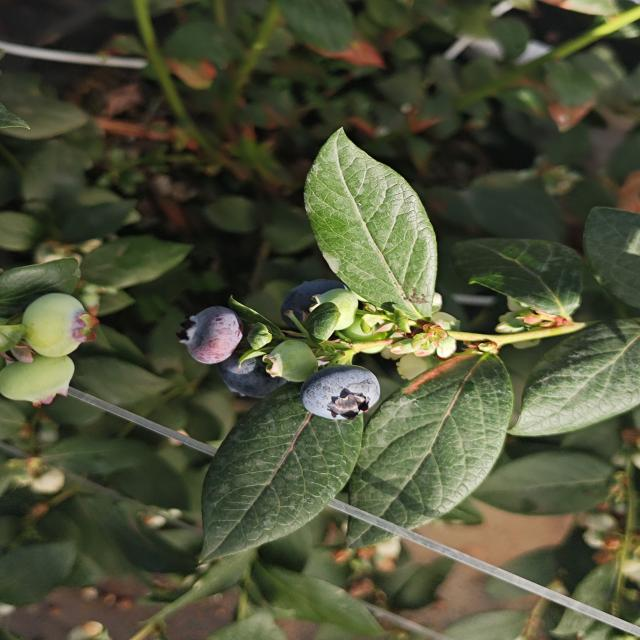ripe: (295, 360, 385, 424), (167, 300, 247, 371), (272, 274, 368, 332), (209, 345, 293, 402)
